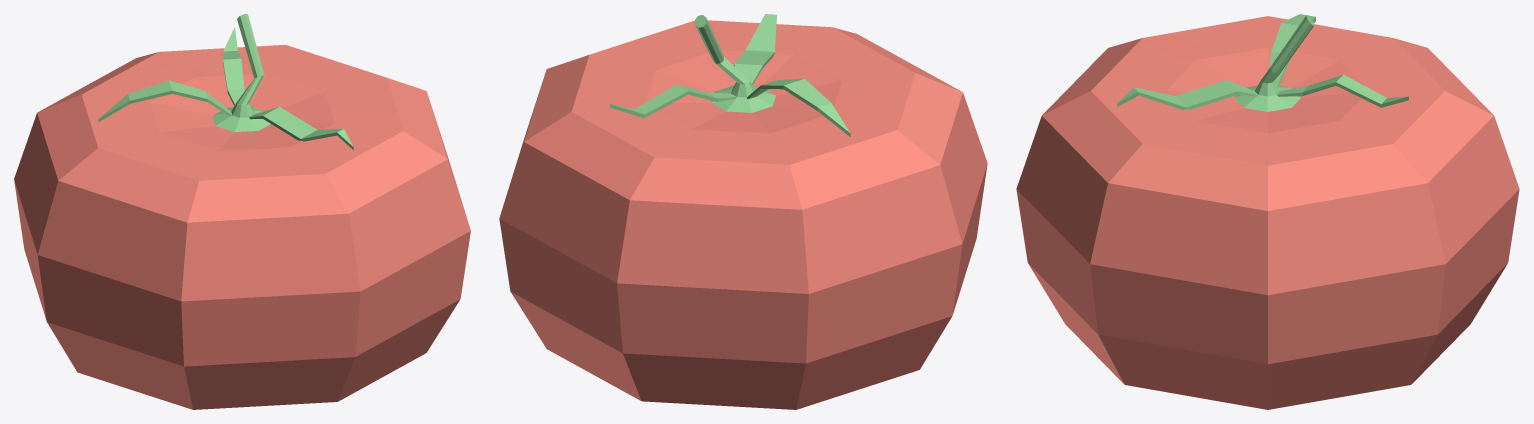
Rendered from tomato.fbx.
3 renders of one model, left to right at view 1: azimuth 30°, elevation 25°; view 2: azimuth 150°, elevation 25°; view 3: azimuth 270°, elevation 25°, orthographic. The views are drawn at different scales.
Visible parts, largest first — view 1: Sphere; view 2: Sphere; view 3: Sphere.
Part boxes in pixels (<box>): Sphere: <box>14,14,470,409</box>; Sphere: <box>499,14,987,409</box>; Sphere: <box>1016,14,1519,409</box>.
Size of the model in its own units: 1289 by 987 by 1289.
